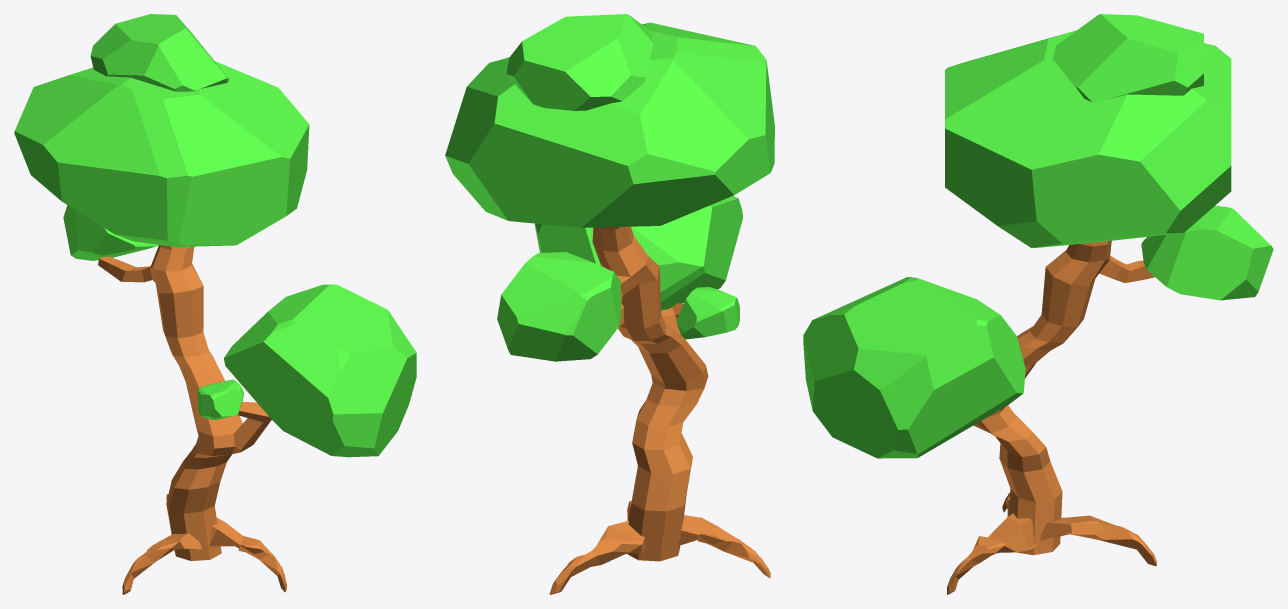
File: Tree 1.fbx
3 views of the same model, side by side, from view 1: azimuth 30°, elevation 25°; view 2: azimuth 150°, elevation 25°; view 3: azimuth 270°, elevation 25° (orthographic). The views are drawn at different scales.
Parts seen in each view (by area): view 1: Tree 1; view 2: Tree 1; view 3: Tree 1.
Part boxes in pixels (<box>): Tree 1: <box>14,14,416,594</box>; Tree 1: <box>445,14,774,594</box>; Tree 1: <box>803,14,1273,594</box>.
Size of the model in its own units: 673 by 1192 by 922.
